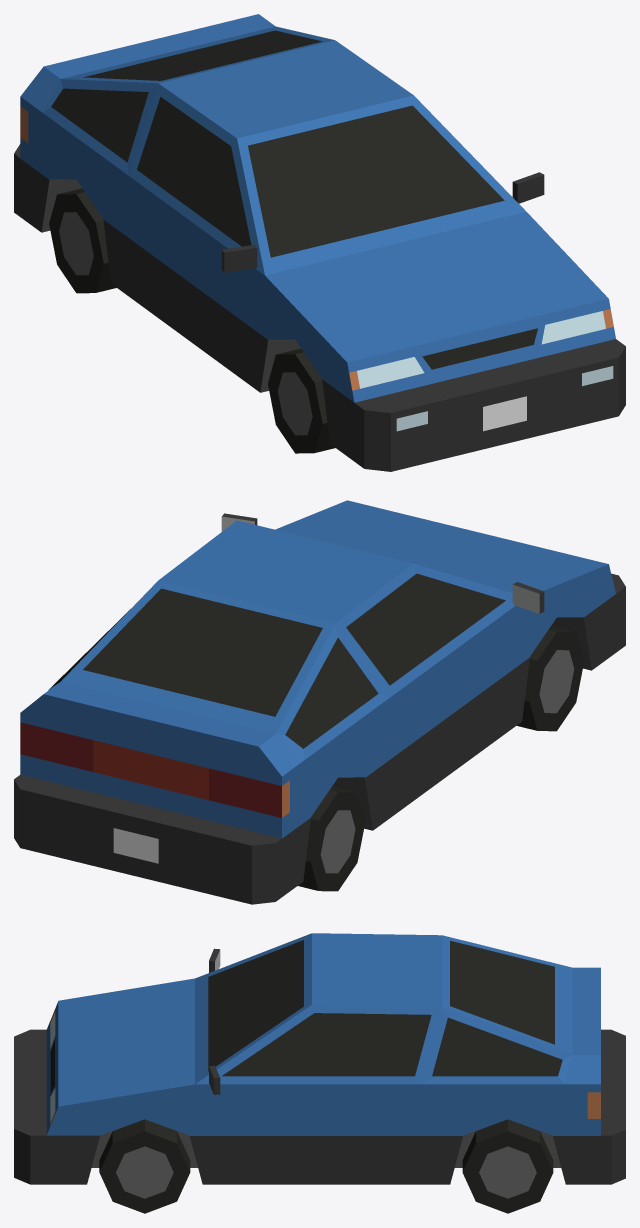
Rendered from Veh_Coupe_01_Blue.obj.
3 views of the same model, one above another, from view 1: azimuth 30°, elevation 25°; view 2: azimuth 150°, elevation 25°; view 3: azimuth 270°, elevation 25° (orthographic). The views are drawn at different scales.
Size of the model in its own units: 1.18 by 0.8117 by 2.35.
